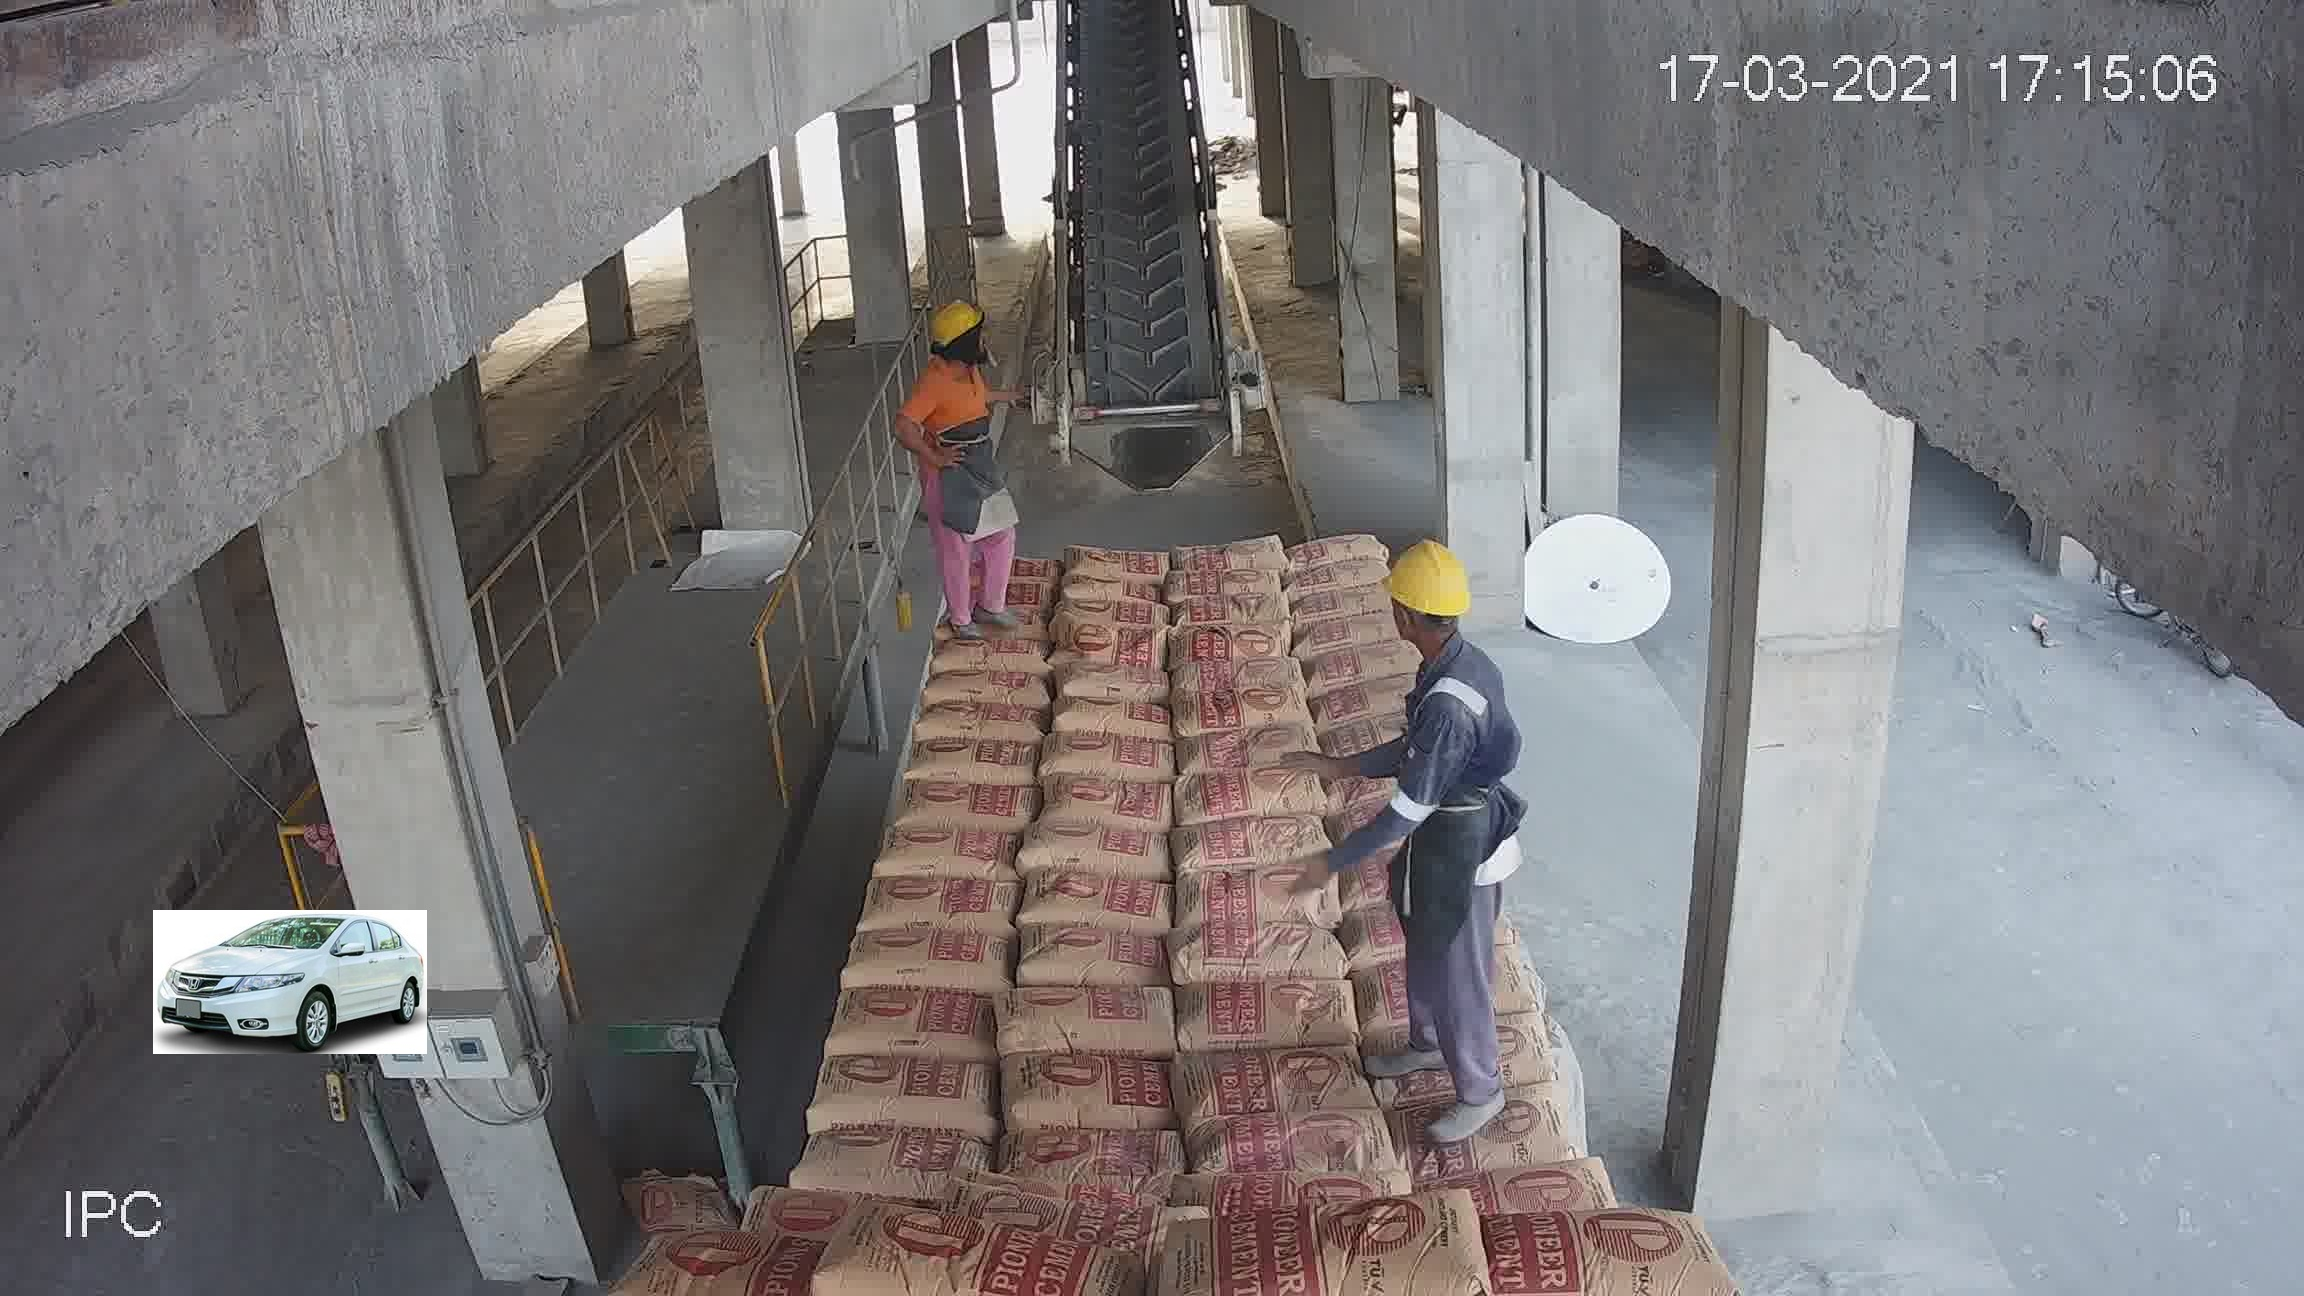bag_h: (1192, 1199, 1521, 1294), (805, 1218, 1120, 1296), (1443, 1211, 1703, 1291), (1397, 1079, 1582, 1176), (638, 1222, 856, 1294), (807, 1055, 1006, 1135), (1188, 1048, 1367, 1133), (1203, 1111, 1394, 1188), (1008, 1048, 1188, 1128), (1002, 986, 1188, 1062), (828, 983, 1003, 1060), (1174, 923, 1359, 994), (790, 1128, 1002, 1190), (1177, 980, 1359, 1051), (858, 873, 1024, 945), (1003, 1120, 1185, 1185), (1435, 1161, 1616, 1226), (837, 927, 1013, 994), (1021, 813, 1171, 886), (1177, 864, 1329, 934), (1176, 809, 1329, 877), (1041, 771, 1187, 836), (1184, 760, 1328, 824), (1016, 934, 1177, 991), (1029, 875, 1179, 930), (894, 782, 1041, 836), (904, 736, 1046, 791), (872, 831, 1019, 883), (910, 696, 1059, 745), (1176, 687, 1318, 734), (1180, 725, 1312, 772), (1173, 655, 1302, 703), (916, 666, 1052, 711), (1049, 741, 1177, 786), (1298, 630, 1407, 684), (1059, 657, 1174, 707), (1065, 614, 1165, 673), (1291, 604, 1394, 657), (1169, 622, 1290, 665), (1055, 699, 1165, 745), (1063, 541, 1174, 585), (932, 625, 1044, 668), (1168, 527, 1299, 562), (1169, 590, 1293, 627), (1168, 565, 1287, 601), (1283, 524, 1388, 565), (1291, 552, 1397, 590), (1294, 581, 1396, 620), (1052, 573, 1165, 606), (1060, 600, 1173, 631)
belt: (1044, 28, 1233, 470)
